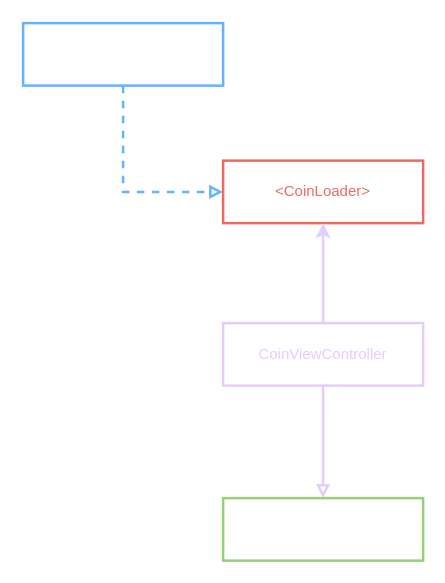
This 445x583 diagram has some shape labels left out. The centre of each missing label's shape, as x and y in pixels:
"RemoteCoinLoader" goes at [122,53].
"UIViewController" goes at [322,528].
